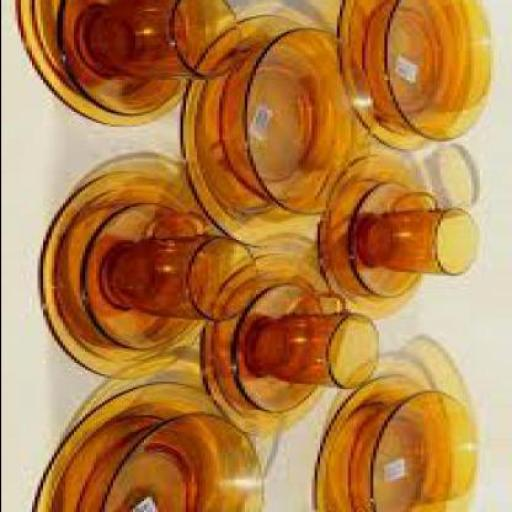glass: (182, 17, 328, 249), (39, 171, 199, 380), (224, 28, 372, 218), (27, 385, 233, 511), (201, 256, 339, 438), (17, 2, 196, 128), (319, 156, 431, 320), (75, 414, 263, 510), (100, 214, 260, 326), (78, 204, 199, 352), (364, 2, 489, 143), (312, 375, 428, 511), (336, 2, 436, 154), (350, 392, 478, 510), (56, 2, 184, 117), (78, 2, 243, 82), (252, 292, 377, 391), (235, 282, 327, 416), (364, 194, 478, 275), (353, 182, 425, 300)
